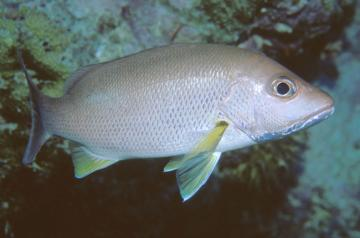Lutjanidae -Snappers-: (7, 35, 339, 205)
